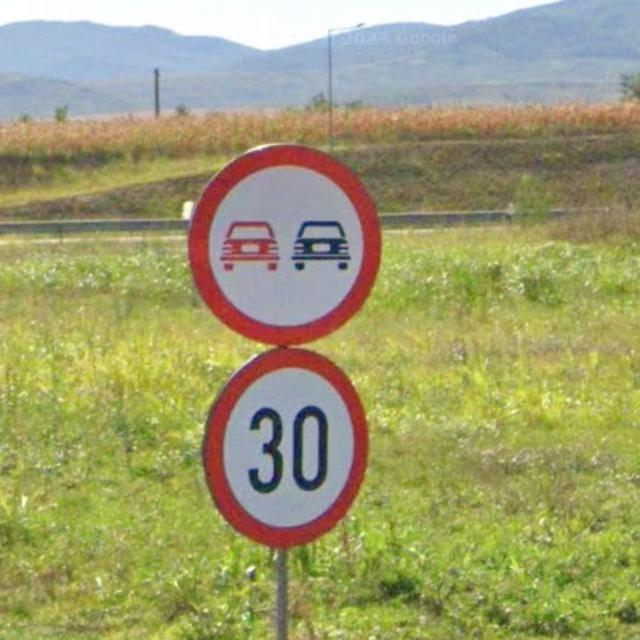forb_overtake: (185, 138, 383, 347)
forb_speed_over_30: (201, 343, 371, 552)
